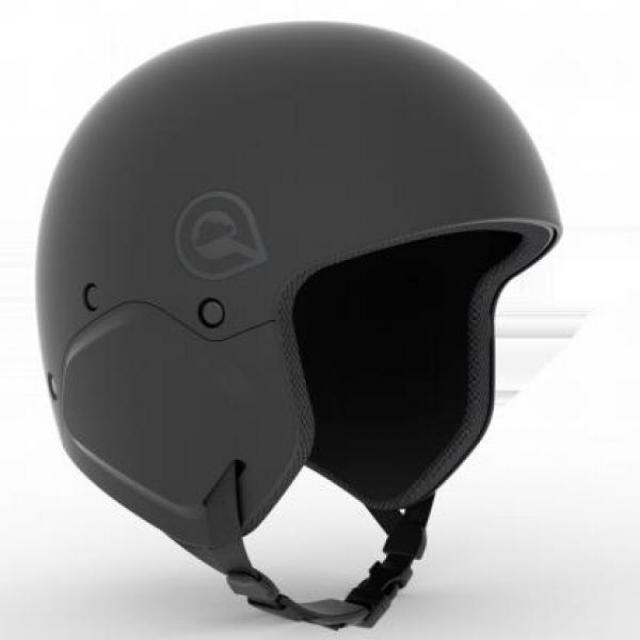Helmet: (45, 22, 561, 618)
